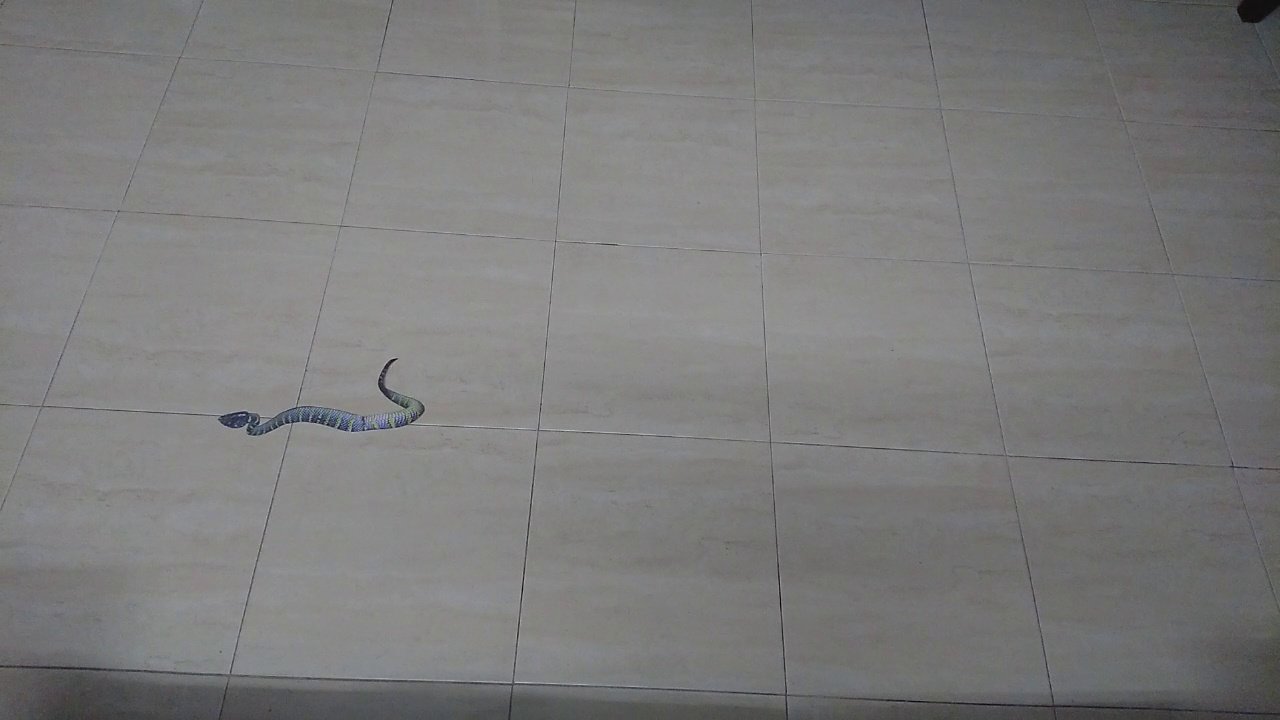snake: (191, 336, 459, 452)
